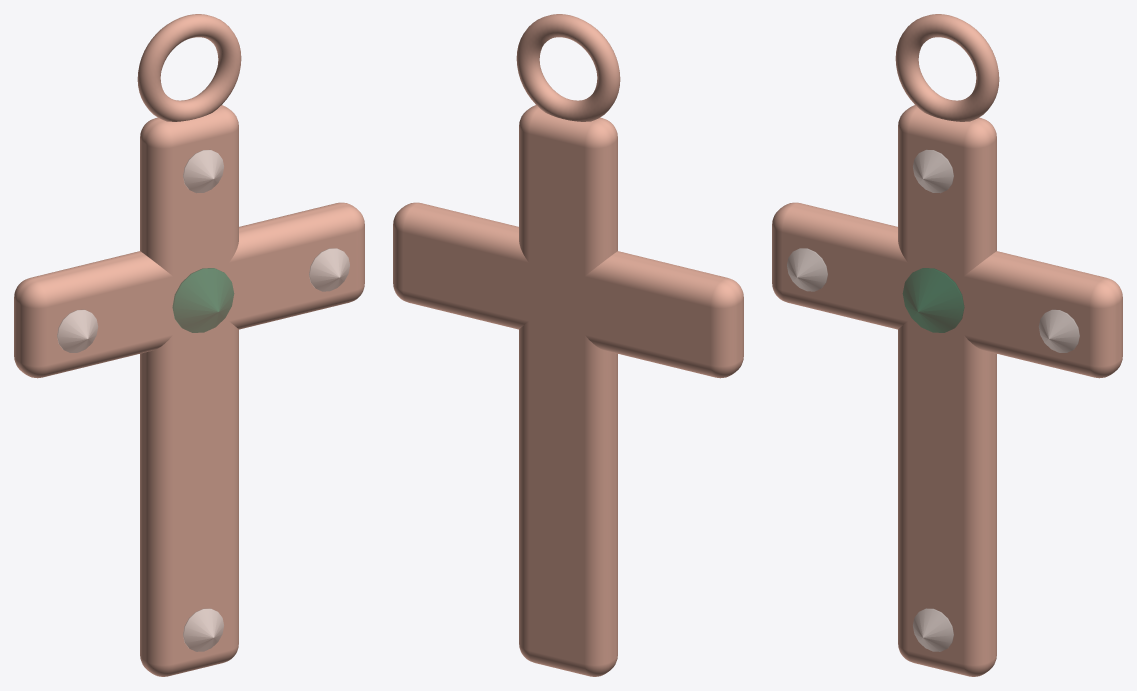
Rendered from cruz.glb.
3 views of the same model, side by side, from view 1: azimuth 30°, elevation 25°; view 2: azimuth 150°, elevation 25°; view 3: azimuth 330°, elevation 25° (orthographic).
Bounding box in the file's own units: 1.36 × 2.47 × 0.2832.
